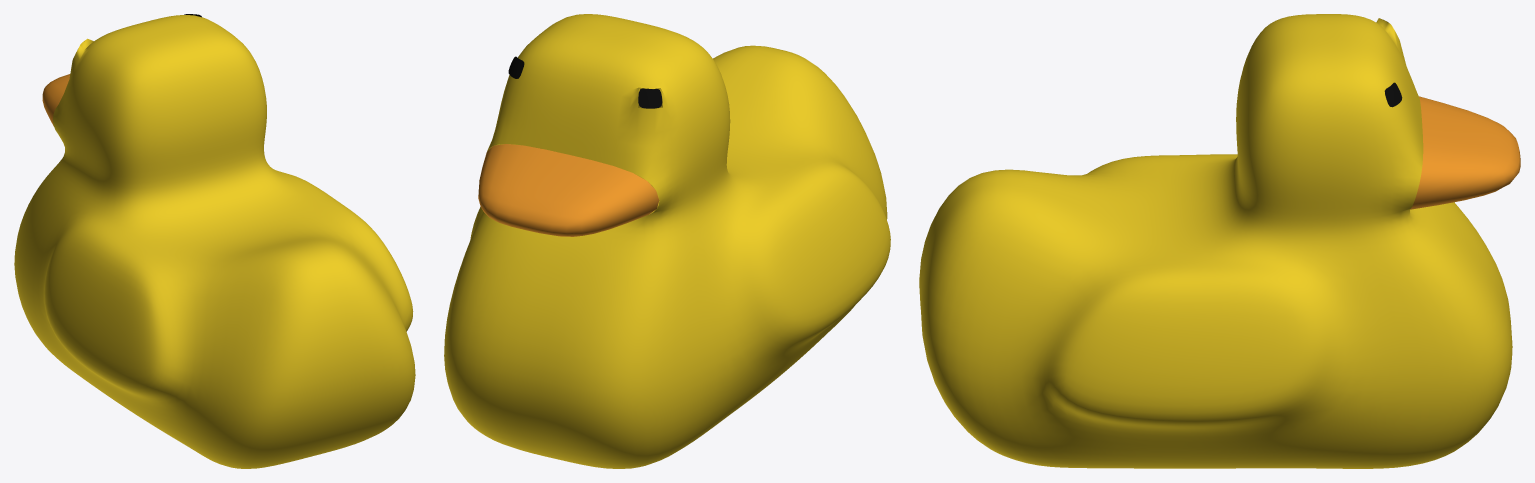
File: duck.glb
The picture shows the model from 3 angles, left to right: view 1: azimuth 30°, elevation 25°; view 2: azimuth 150°, elevation 25°; view 3: azimuth 270°, elevation 25°; orthographic projection. The views are drawn at different scales.
Visible parts, largest first — view 1: Cube, Cube.001; view 2: Cube, Cube.001, Cube.002; view 3: Cube, Cube.001.
Boxes of the visible parts, <box> form: Cube: <box>14,15,415,468</box>; Cube.001: <box>42,74,70,126</box>; Cube: <box>444,14,890,468</box>; Cube.001: <box>478,144,659,236</box>; Cube.002: <box>508,56,662,108</box>; Cube: <box>919,14,1512,468</box>; Cube.001: <box>1410,96,1520,209</box>.
Bounding box in the file's own units: 3.2 × 3.64 × 4.9.
